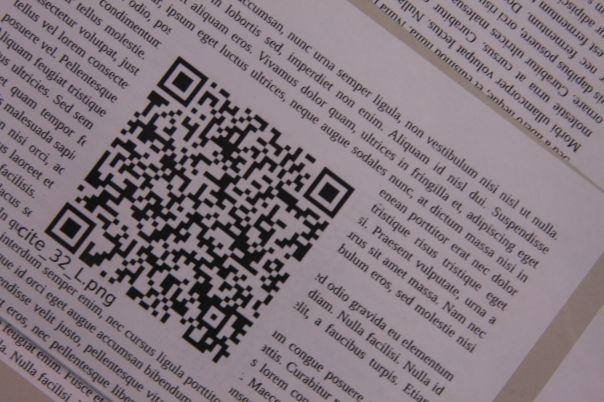code: (45, 56, 356, 365)
